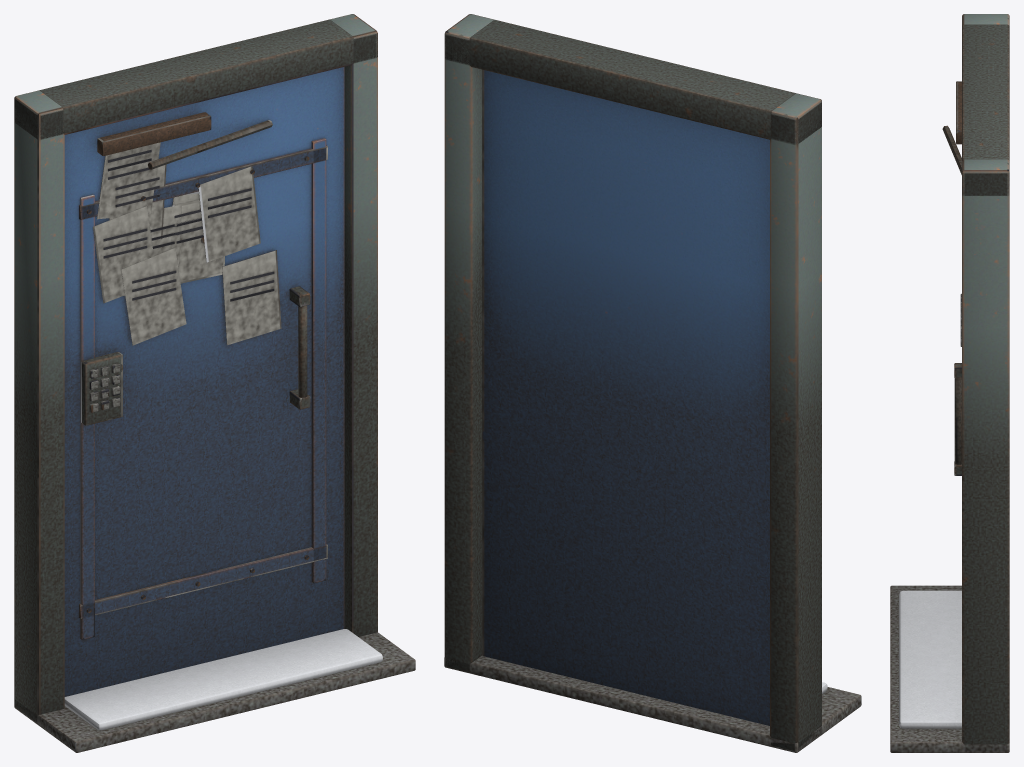
The model's file is g67_fx_door.glb.
The picture shows the model from 3 angles, left to right: view 1: azimuth 30°, elevation 25°; view 2: azimuth 150°, elevation 25°; view 3: azimuth 270°, elevation 25°; orthographic projection. The views are drawn at different scales.
Parts seen in each view (by area): view 1: leaf, frame_l, frame_r, frame_t, snow_sill, sill, rib.003, rib.002, ad3, ad8, ad6, rib (+10 smaller); view 2: leaf, frame_l, frame_r, frame_t, sill; view 3: frame_r, snow_sill, frame_t, sill, bar_h, frame_l, closer, spring.
Boxes of the visible parts, left/top/right/bottom form: leaf: left=64, top=67, right=344, bottom=696; frame_l: left=14, top=90, right=64, bottom=721; frame_r: left=329, top=14, right=377, bottom=636; frame_t: left=14, top=19, right=377, bottom=139; snow_sill: left=64, top=629, right=382, bottom=730; sill: left=14, top=632, right=415, bottom=752; rib.003: left=311, top=138, right=326, bottom=583; rib.002: left=80, top=194, right=94, bottom=639; ad3: left=222, top=250, right=281, bottom=345; ad8: left=121, top=248, right=186, bottom=345; ad6: left=198, top=166, right=260, bottom=262; rib: left=79, top=544, right=327, bottom=618; leaf: left=482, top=69, right=769, bottom=725; frame_l: left=770, top=93, right=821, bottom=750; frame_r: left=444, top=14, right=493, bottom=671; frame_t: left=445, top=19, right=821, bottom=143; sill: left=444, top=655, right=861, bottom=752; frame_r: left=962, top=159, right=1009, bottom=744; snow_sill: left=899, top=590, right=961, bottom=728; frame_t: left=962, top=24, right=1009, bottom=194; sill: left=890, top=585, right=1009, bottom=752; bar_h: left=954, top=364, right=961, bottom=464; frame_l: left=962, top=14, right=1009, bottom=25; closer: left=956, top=81, right=961, bottom=144; spring: left=942, top=125, right=961, bottom=174.
Bounding box in the file's own units: 1.25 × 2.15 × 0.4.
Materials: 1 (1 with a texture image).
